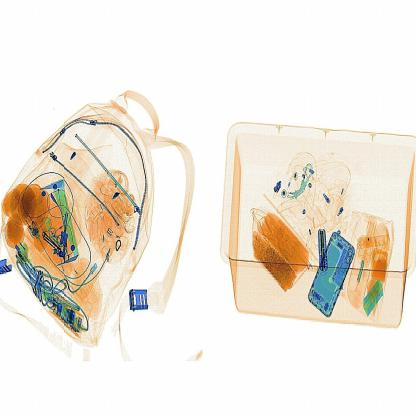scissors: (318, 226, 333, 272)
